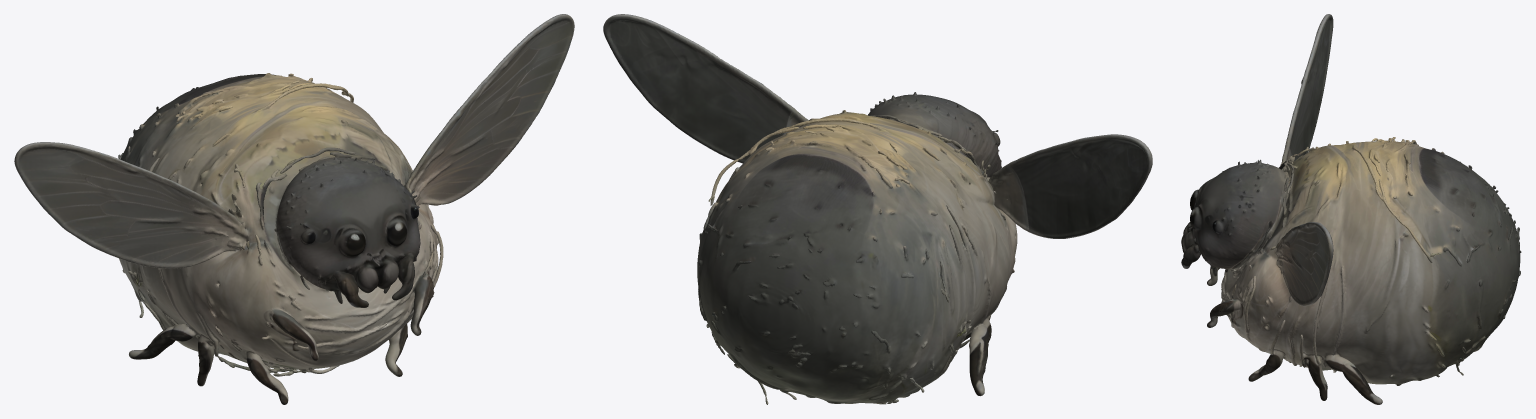
Rendered from b8963197-030c-4945-b236-85035617cad4.obj.
3 views of the same model, side by side, from view 1: azimuth 30°, elevation 25°; view 2: azimuth 150°, elevation 25°; view 3: azimuth 270°, elevation 25° (orthographic). The views are drawn at different scales.
Visible parts, largest first — view 1: tripo_node_68912f2d-6055-4fda-aeb8-8a5fcb619b2d; view 2: tripo_node_68912f2d-6055-4fda-aeb8-8a5fcb619b2d; view 3: tripo_node_68912f2d-6055-4fda-aeb8-8a5fcb619b2d.
Part boxes in pixels (bbox=[...]): tripo_node_68912f2d-6055-4fda-aeb8-8a5fcb619b2d: bbox=[14, 14, 574, 404]; tripo_node_68912f2d-6055-4fda-aeb8-8a5fcb619b2d: bbox=[603, 14, 1152, 404]; tripo_node_68912f2d-6055-4fda-aeb8-8a5fcb619b2d: bbox=[1181, 14, 1521, 404].
Bounding box in the file's own units: 1 × 0.49 × 0.6263.
Materials: 1 (1 with a texture image).
